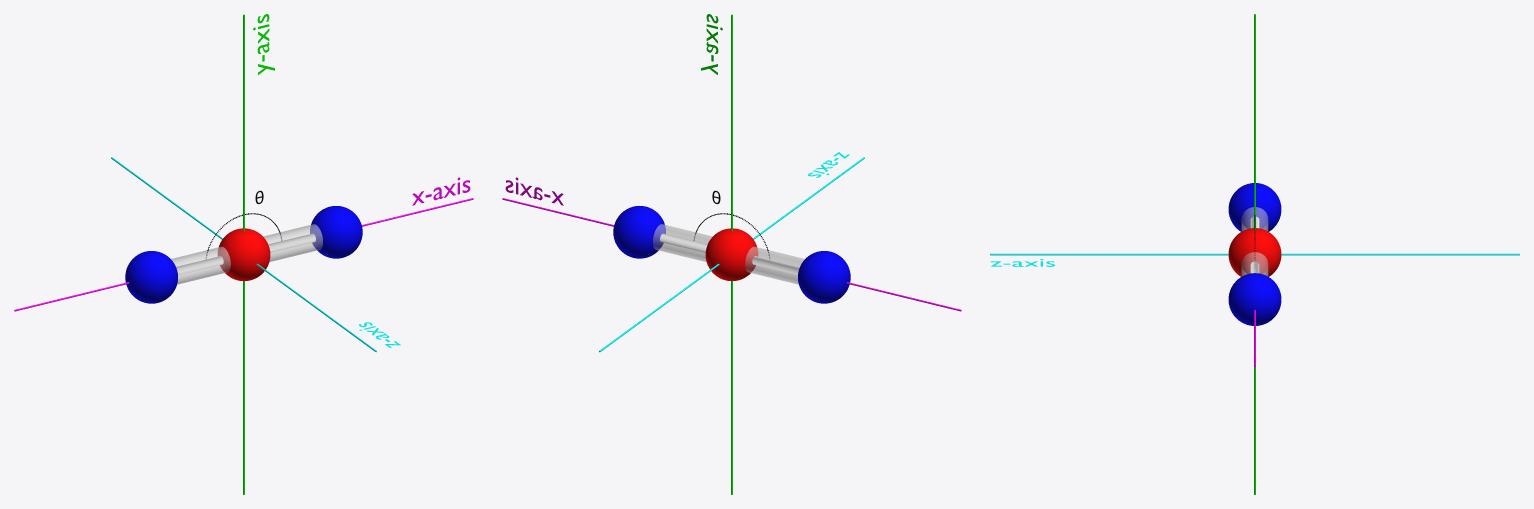
File: linear_shape.glb
3 renders of one model, left to right at view 1: azimuth 30°, elevation 25°; view 2: azimuth 150°, elevation 25°; view 3: azimuth 270°, elevation 25°, orthographic.
Parts seen in each view (by area): view 1: linear, Cylinder.003, Cylinder, Cylinder.002, Cylinder.001; view 2: linear, Cylinder.003, Cylinder, Cylinder.002, Cylinder.001; view 3: linear, Cylinder.002, Cylinder.003, Cylinder.
Part boxes in pixels (x1,y1,x2,y2): linear: (125,206,362,303); Cylinder.003: (171,224,322,284); Cylinder: (243,14,244,494); Cylinder.002: (111,157,376,352); Cylinder.001: (14,198,473,311); linear: (613,206,850,303); Cylinder.003: (653,224,804,284); Cylinder: (731,14,732,494); Cylinder.002: (599,157,864,352); Cylinder.001: (502,198,961,311); linear: (1228,183,1281,325); Cylinder.002: (990,253,1519,255); Cylinder.003: (1241,207,1268,276); Cylinder: (1254,14,1255,494).
Size of the model in its own units: 6 by 6 by 6.
12 materials, 1 textured.
